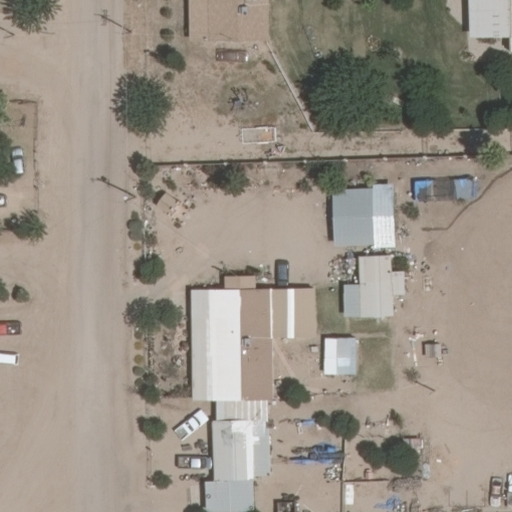DT: (117, 186, 139, 209), (115, 22, 137, 40)
